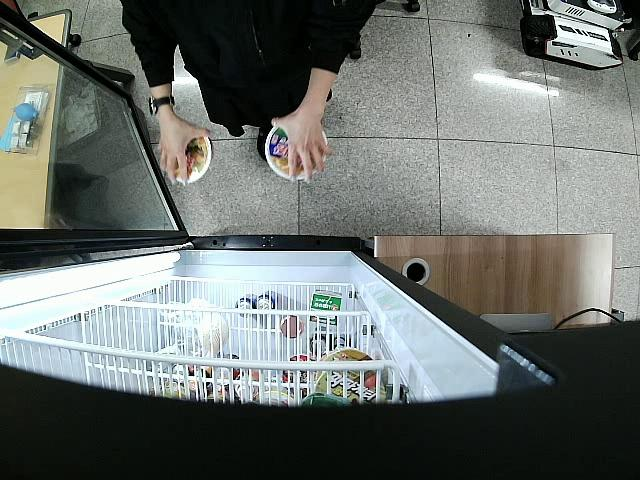00_hand: (271, 113, 333, 184), (156, 125, 213, 188)
09_yukGaeJang: (264, 125, 326, 180), (157, 136, 213, 184)
